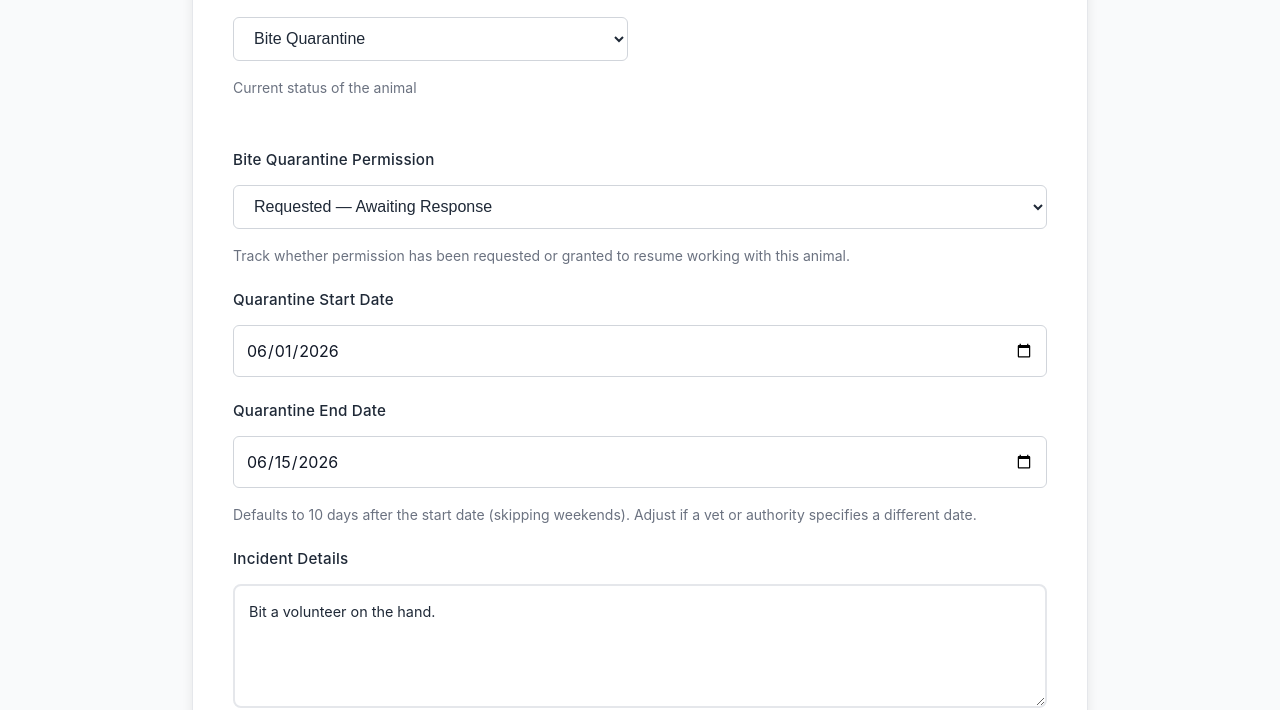
Test: AnimalForm › recomputes the end date field when the start date changes
(page scrolled)
Step 1. Type "2024-06-03" into the date field labelled "Quarantine Start Date" → (640, 351), box [233,325,1047,377]
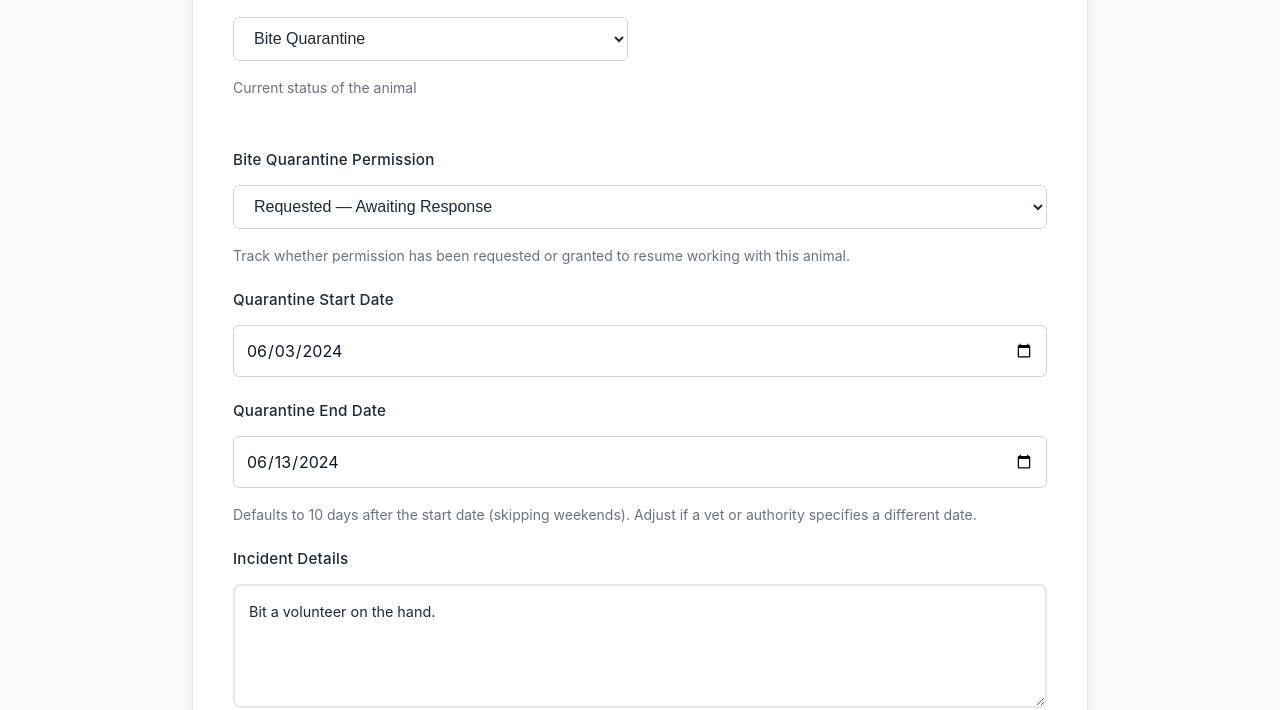
Now the date field labelled "Quarantine End Date" holds "2024-06-13", box [233,436,1047,488]
